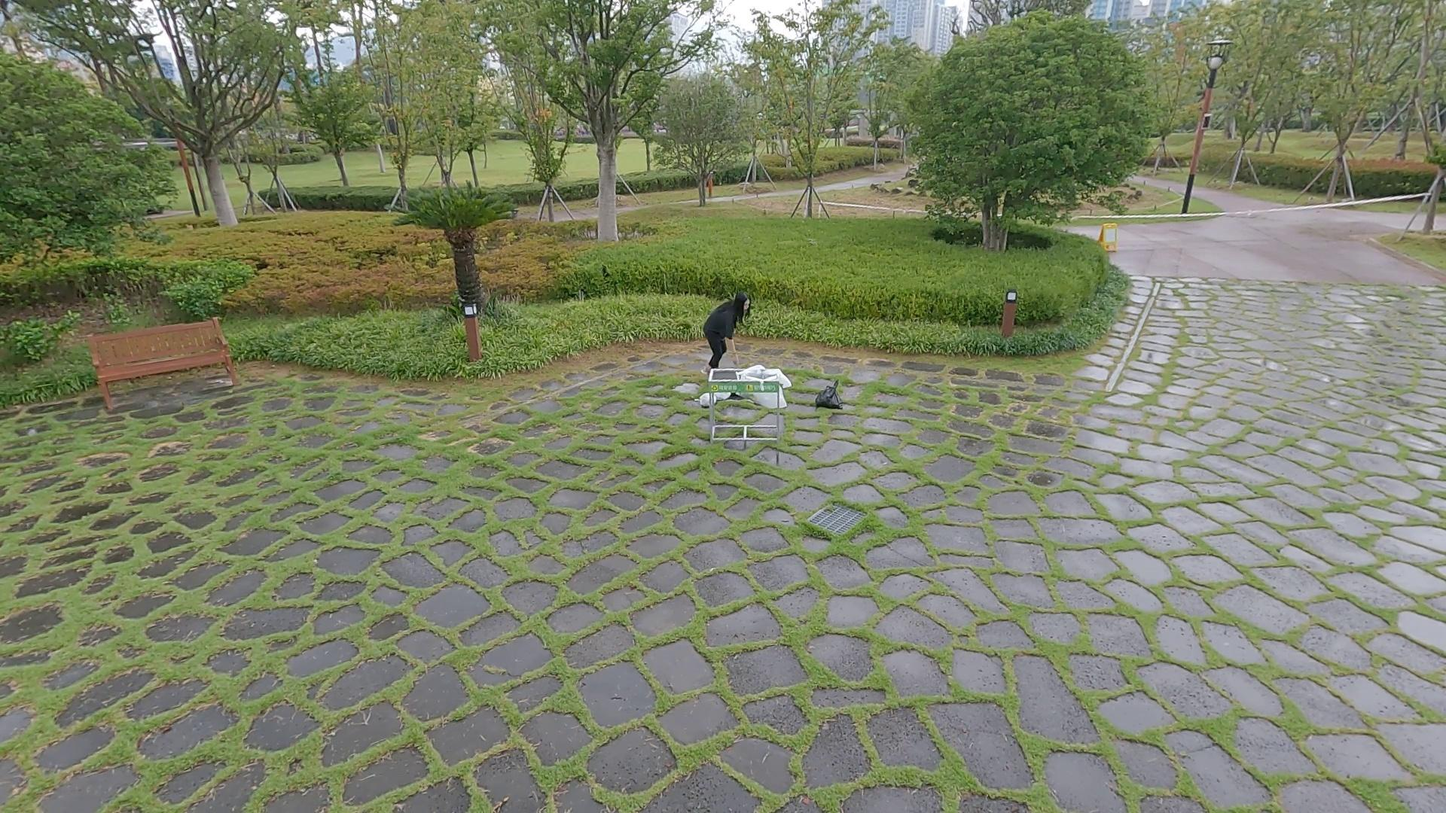person: (701, 292, 754, 386)
trash: (816, 378, 843, 412), (695, 391, 720, 416), (713, 392, 736, 402)
